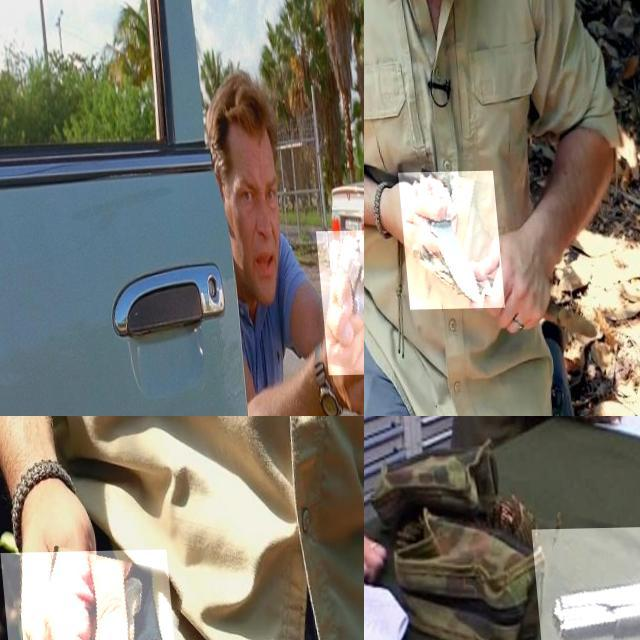-: (0, 551, 182, 640), (394, 172, 498, 310)
gun-knife-thesis - v11 Yolov5 augmented: (527, 525, 640, 640), (311, 231, 364, 376)
